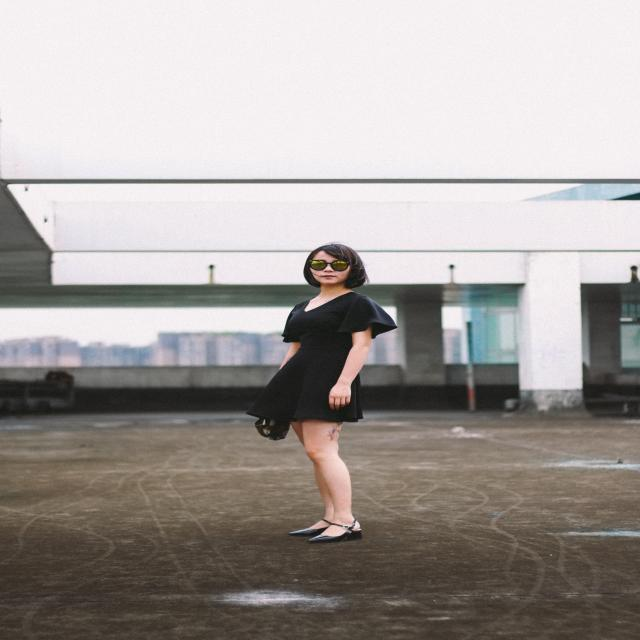standing: (276, 241, 382, 545)
